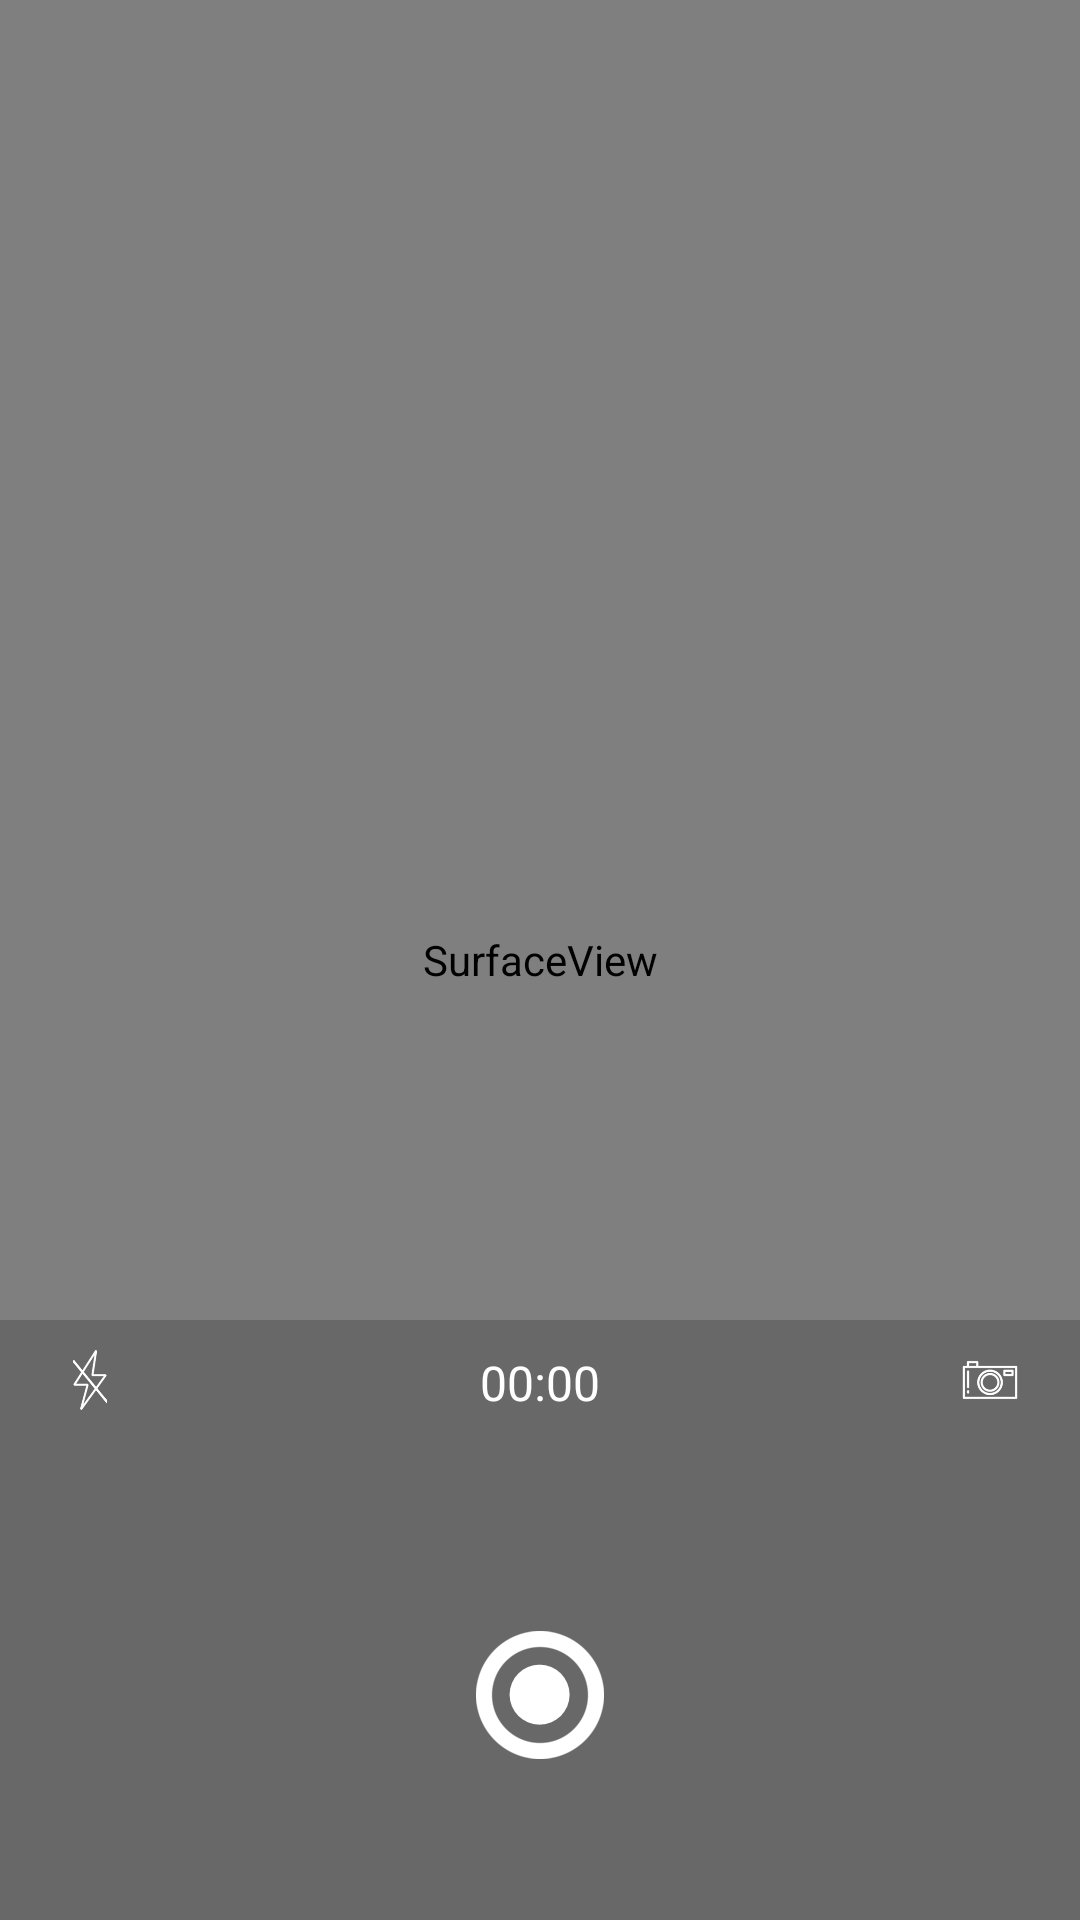

Where to tap for icons on this 1080 x 1920 app screen, as (x,y):
flash off: (90,1380)
switch camera: (990,1380)
